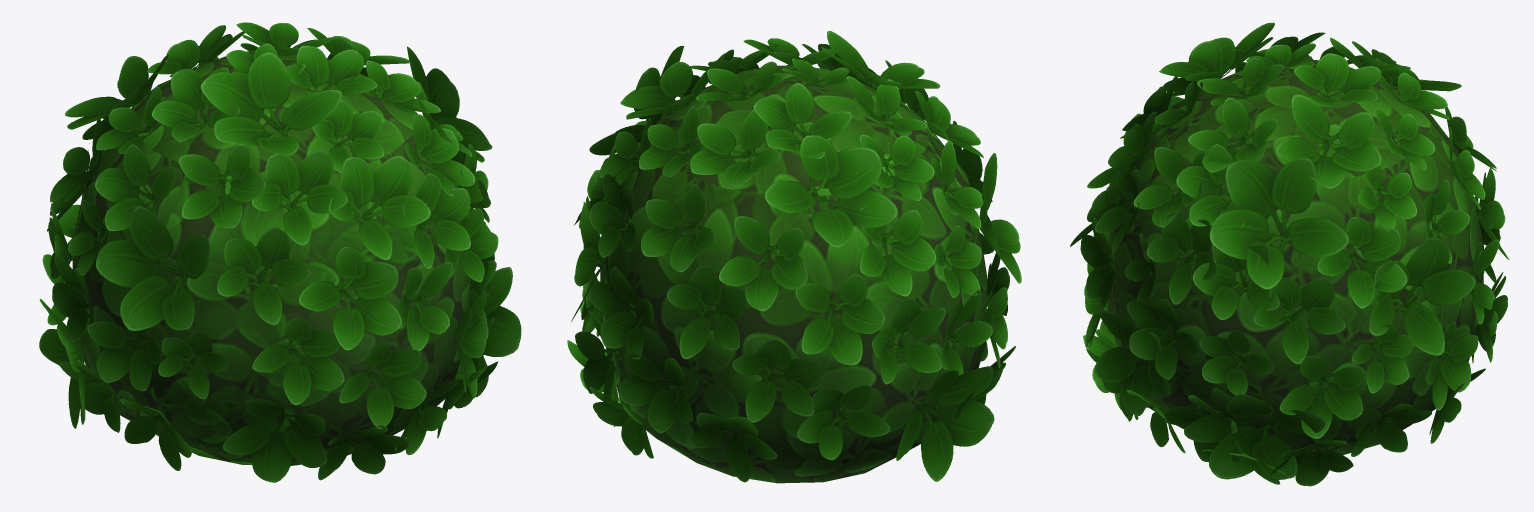
The model's file is SE_Hedge_01.fbx.
3 views of the same model, side by side, from view 1: azimuth 30°, elevation 25°; view 2: azimuth 150°, elevation 25°; view 3: azimuth 270°, elevation 25° (orthographic). The views are drawn at different scales.
Parts seen in each view (by area): view 1: SE_Hedge_01; view 2: SE_Hedge_01; view 3: SE_Hedge_01.
Boxes of the visible parts, x1,y1,x2,y2 form: SE_Hedge_01: (39, 22, 521, 482); SE_Hedge_01: (567, 31, 1021, 483); SE_Hedge_01: (1070, 22, 1508, 486).
Bounding box in the file's own units: 2.75 × 2.55 × 2.62.
